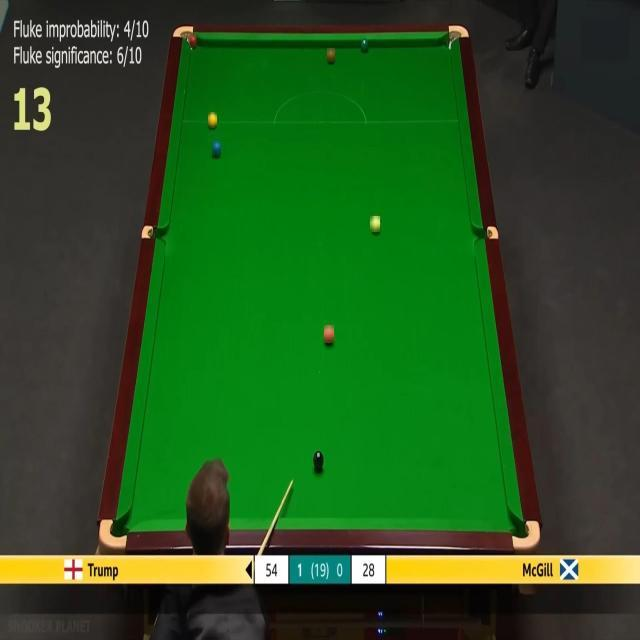Ball: (313, 450, 324, 470), (324, 325, 334, 343), (370, 216, 380, 232), (208, 112, 217, 128), (212, 140, 221, 156), (327, 48, 335, 62), (361, 38, 368, 51), (190, 34, 196, 48)
